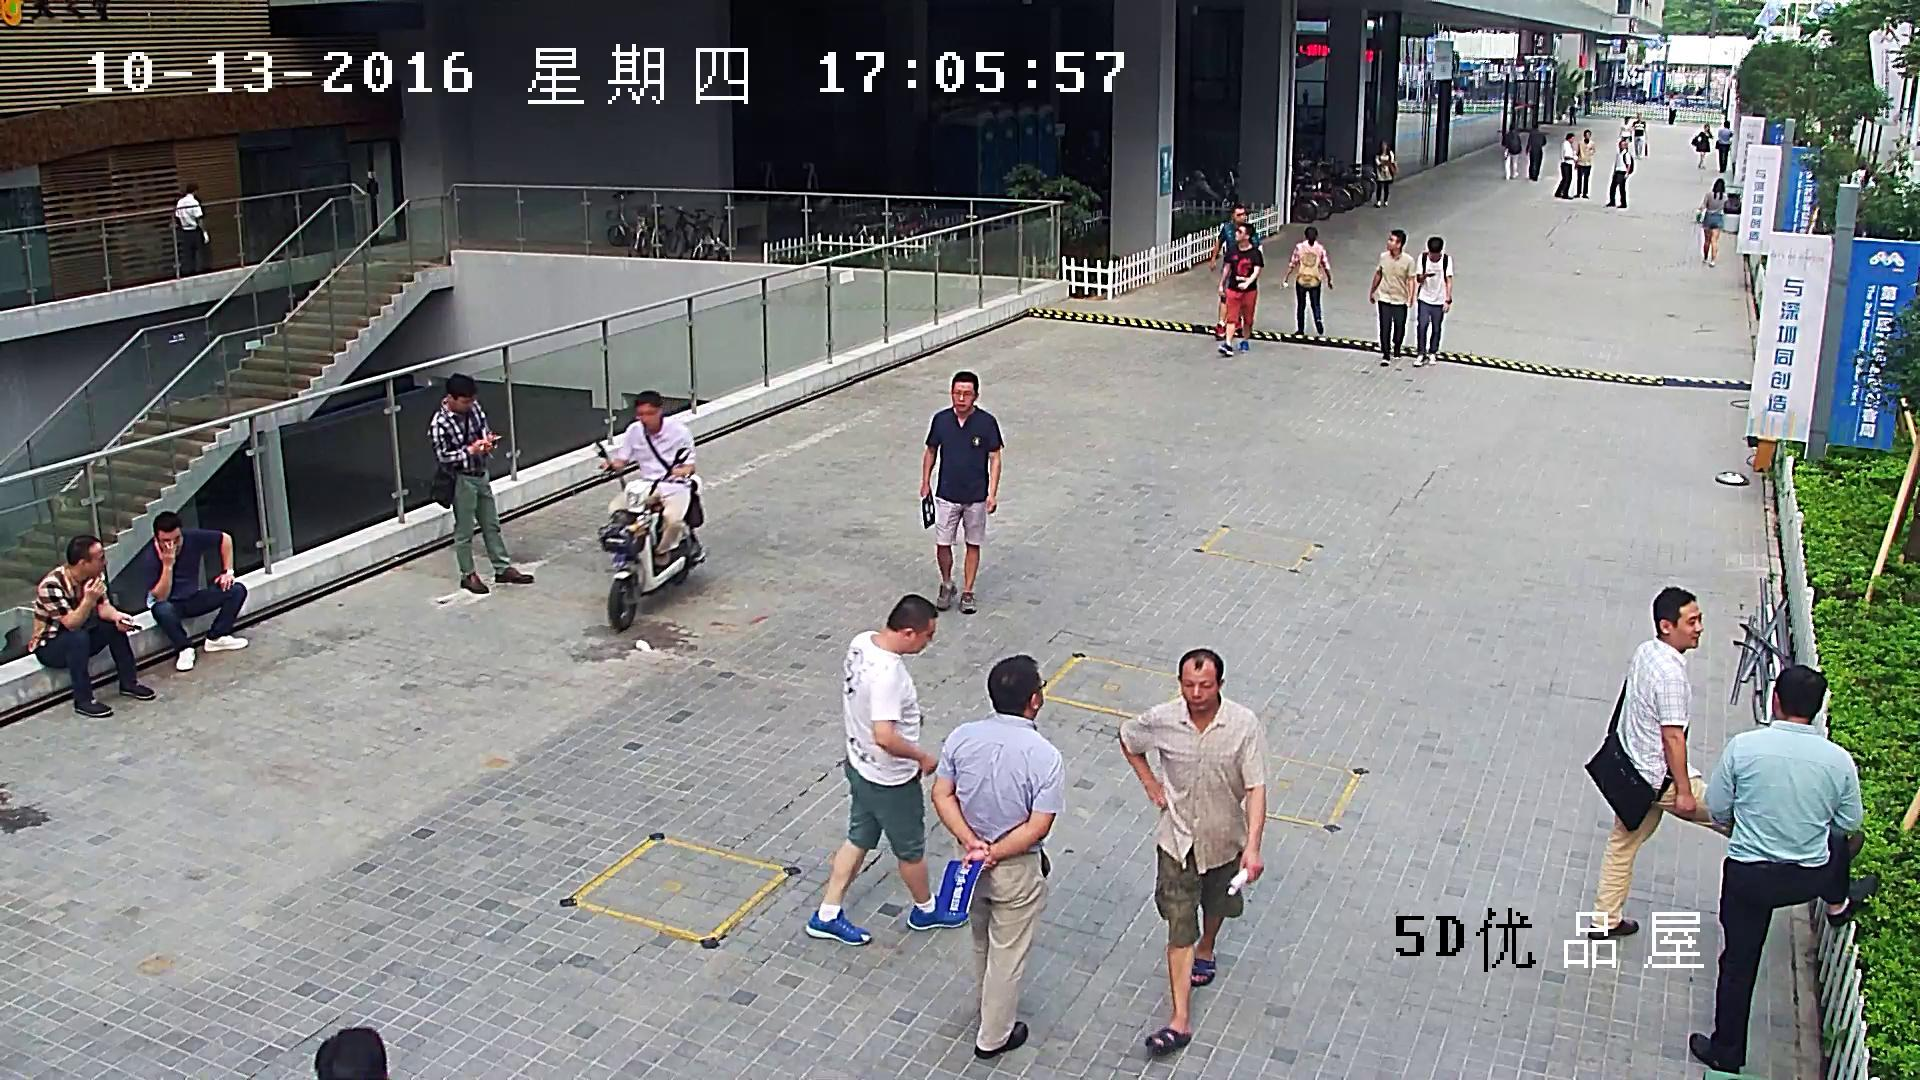person: (1585, 586, 1863, 939), (1689, 664, 1877, 1073), (1119, 649, 1268, 1053), (804, 595, 970, 945), (931, 653, 1063, 1059), (590, 389, 705, 630), (426, 373, 533, 594), (26, 534, 156, 716), (919, 371, 1005, 613), (598, 390, 695, 566), (146, 510, 248, 671), (1209, 203, 1261, 340), (1217, 223, 1264, 355), (1369, 230, 1415, 364), (1280, 225, 1332, 333), (1415, 236, 1453, 366), (174, 182, 212, 275), (1695, 177, 1727, 266), (1604, 139, 1634, 209), (1373, 139, 1397, 206), (1554, 133, 1577, 199), (1572, 130, 1593, 198), (1525, 124, 1547, 181), (1501, 124, 1522, 180), (1691, 123, 1712, 167), (1630, 113, 1648, 159), (1715, 121, 1730, 172), (1617, 116, 1632, 143), (1567, 94, 1578, 124), (1667, 92, 1676, 125), (1583, 85, 1591, 115), (1454, 86, 1463, 117)
